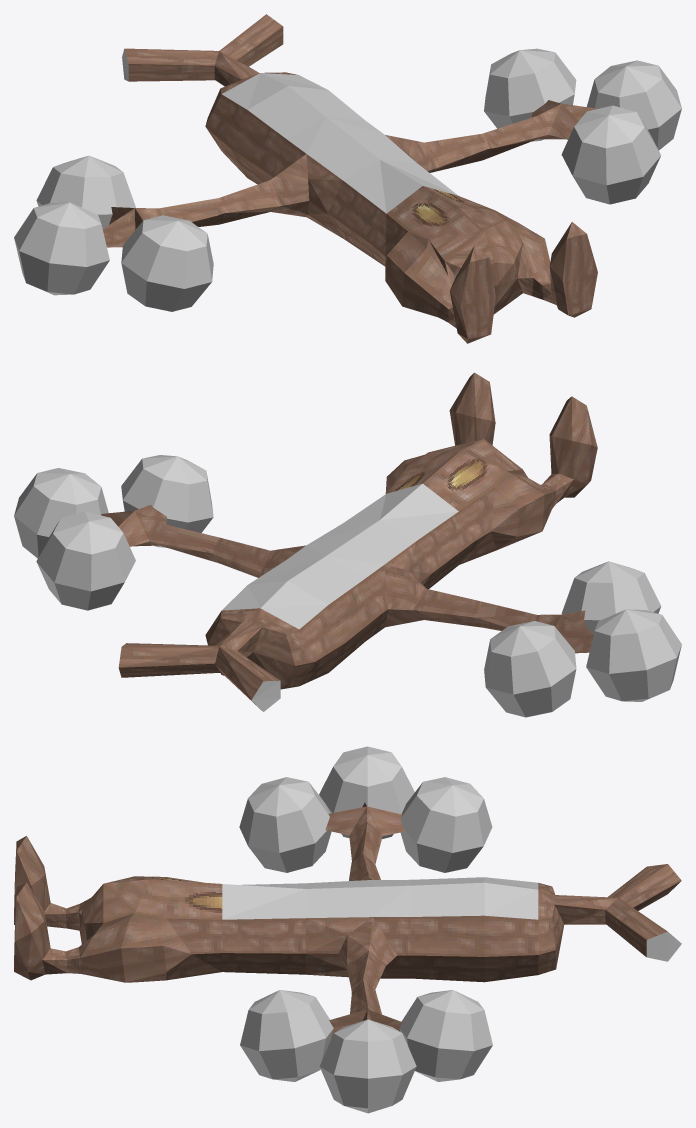
Rendered from BR_Sudowoodo-Shiny01.obj.
3 renders of one model, top to bottom at view 1: azimuth 30°, elevation 25°; view 2: azimuth 150°, elevation 25°; view 3: azimuth 270°, elevation 25°, orthographic. The views are drawn at different scales.
Parts seen in each view (by area): view 1: usokkie; view 2: usokkie; view 3: usokkie.
Part boxes in pixels (x1,y1,x2,y2): usokkie: (14,14,681,343); usokkie: (14,372,681,717); usokkie: (14,746,681,1113).
Size of the model in its own units: 13.42 by 2.38 by 12.12.
